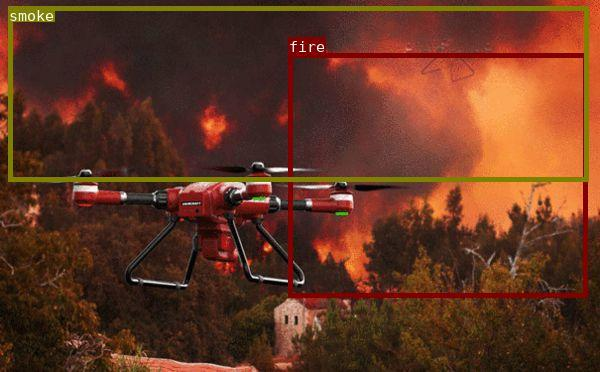fire: (288, 52, 587, 297)
smoke: (8, 6, 587, 181)
